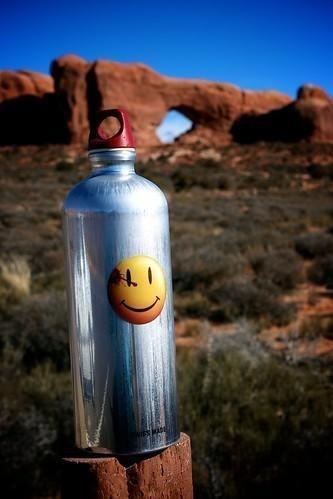gym bottle: (60, 108, 181, 458)
